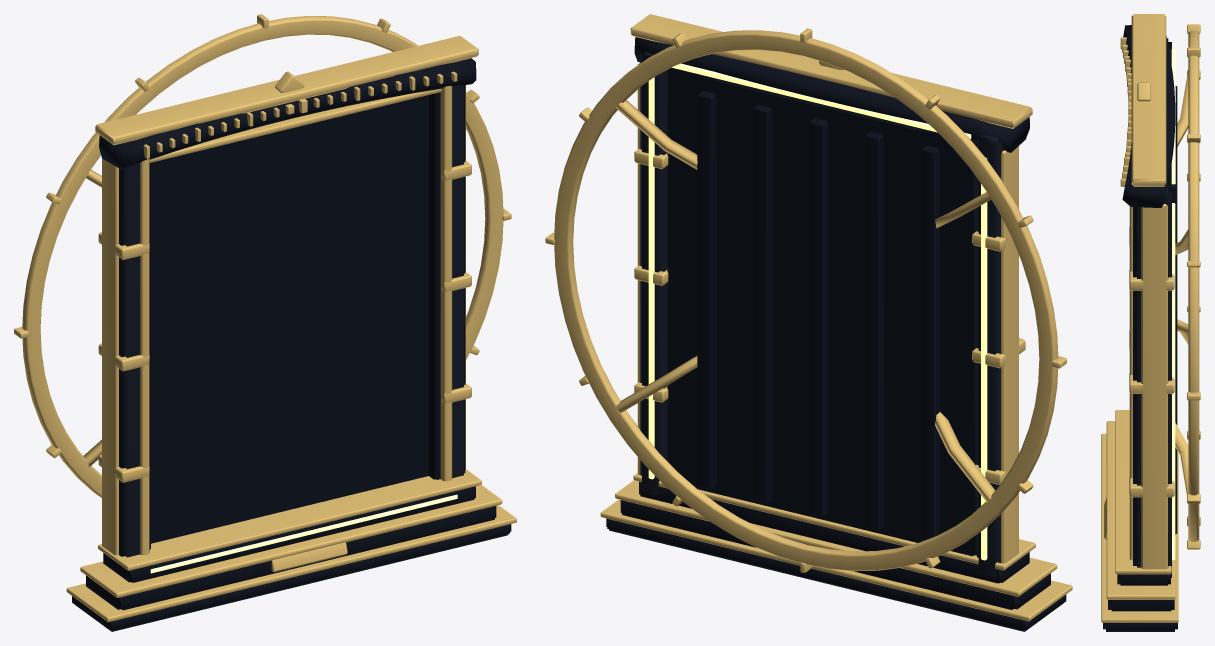
The model's file is stage_monolith.glb.
The picture shows the model from 3 angles, left to right: view 1: azimuth 30°, elevation 25°; view 2: azimuth 150°, elevation 25°; view 3: azimuth 270°, elevation 25°; orthographic projection. The views are drawn at different scales.
Visible parts, largest first — view 1: Monolith_Backing, Monolith_Rear_Halo, Monolith_Base_Brass, Monolith_Pillars_Brass, Monolith_Base_Obsidian, Monolith_Cornice_Brass, Monolith_Pillars_Obsidian, Monolith_Cornice_Obsidian, Monolith_Light_Channels; view 2: Monolith_Backing, Monolith_Rear_Halo, Monolith_Pillars_Obsidian, Monolith_Base_Obsidian, Monolith_Base_Brass, Monolith_Pillars_Brass, Monolith_Cornice_Obsidian, Monolith_Cornice_Brass, Monolith_Light_Channels; view 3: Monolith_Pillars_Brass, Monolith_Rear_Halo, Monolith_Base_Brass, Monolith_Cornice_Brass, Monolith_Pillars_Obsidian, Monolith_Cornice_Obsidian, Monolith_Base_Obsidian, Monolith_Light_Channels, Monolith_Backing.
Part boxes in pixels (x1,y1,x2,y2): Monolith_Backing: (149,92,440,549); Monolith_Rear_Halo: (14,14,511,497); Monolith_Base_Brass: (66,469,516,622); Monolith_Pillars_Brass: (98,85,471,555); Monolith_Base_Obsidian: (72,486,511,631); Monolith_Cornice_Brass: (95,36,478,162); Monolith_Pillars_Obsidian: (119,85,465,557); Monolith_Cornice_Obsidian: (99,58,476,169); Monolith_Light_Channels: (150,494,457,573); Monolith_Backing: (667,67,976,556); Monolith_Rear_Halo: (545,28,1066,572); Monolith_Pillars_Obsidian: (640,52,1003,577); Monolith_Base_Obsidian: (606,481,1066,631); Monolith_Base_Brass: (600,473,1072,621); Monolith_Pillars_Brass: (634,63,1025,563); Monolith_Cornice_Obsidian: (634,37,1029,152); Monolith_Cornice_Brass: (630,14,1032,128); Monolith_Light_Channels: (648,63,987,560); Monolith_Pillars_Brass: (1129,204,1174,569); Monolith_Rear_Halo: (1175,24,1200,549); Monolith_Base_Brass: (1101,410,1178,622); Monolith_Cornice_Brass: (1120,14,1166,186); Monolith_Pillars_Obsidian: (1133,38,1171,579); Monolith_Cornice_Obsidian: (1122,25,1175,207); Monolith_Base_Obsidian: (1103,574,1177,631); Monolith_Light_Channels: (1171,48,1175,560); Monolith_Backing: (1168,85,1177,534).
Bounding box in the file's own units: 2.5 × 2.58 × 0.469.
